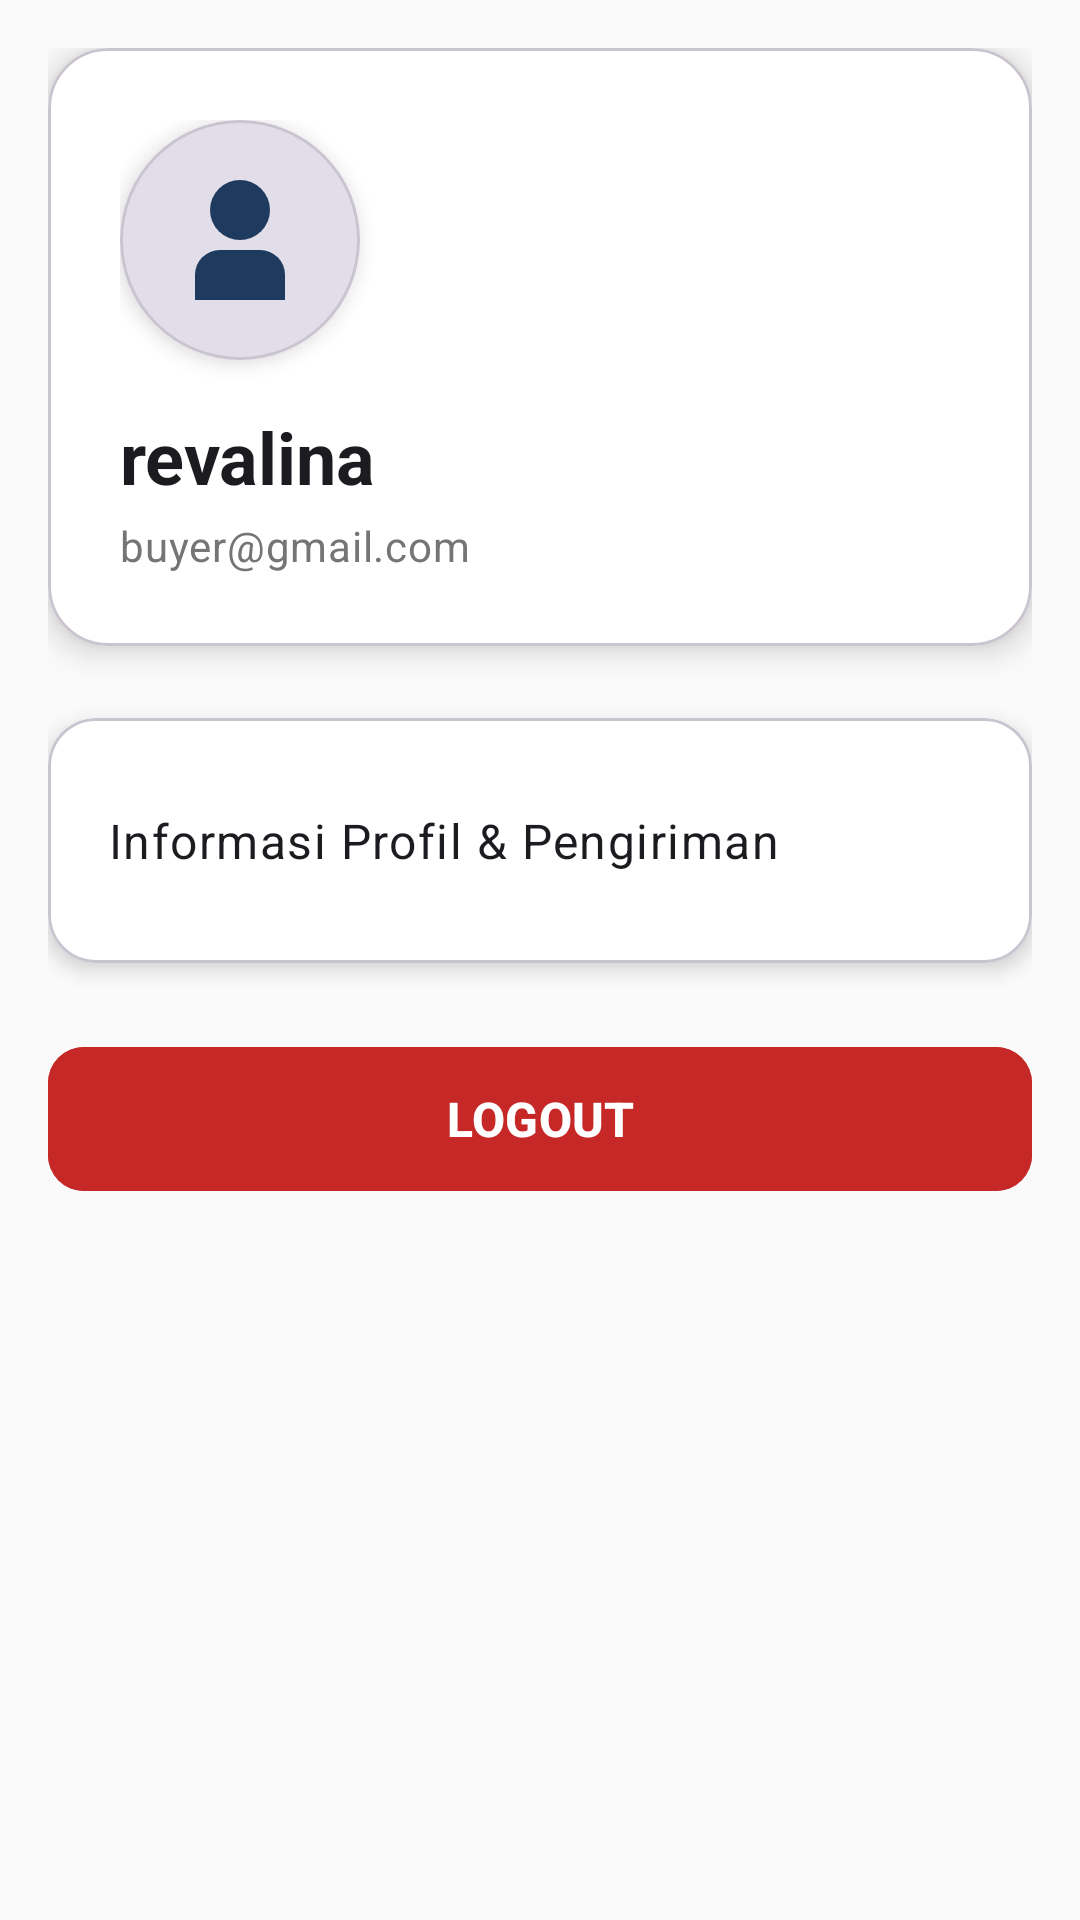

Where icons sit on this 1080px x 1920px app screen, as (x1, y1, x2, y2):
user: (195, 180, 285, 300)
